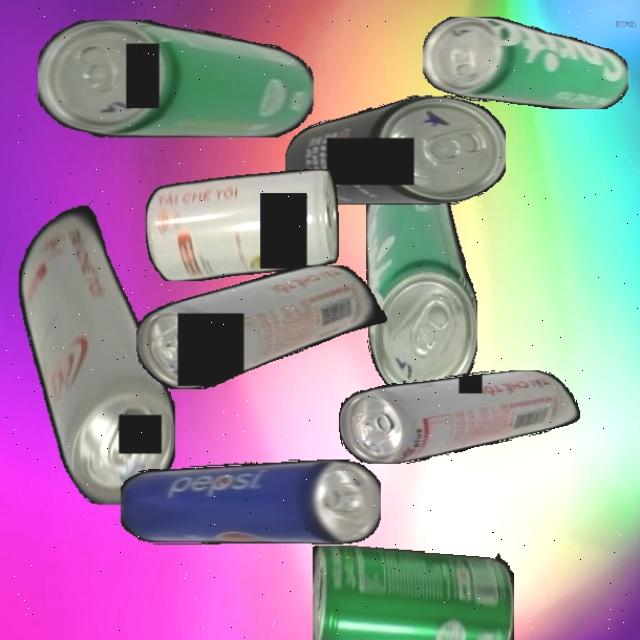debris: (18, 191, 175, 505), (38, 19, 314, 137), (136, 264, 388, 390), (365, 165, 477, 401), (284, 96, 506, 204), (339, 369, 580, 464), (145, 168, 339, 281), (120, 460, 380, 544), (311, 544, 514, 640), (423, 16, 628, 109)
